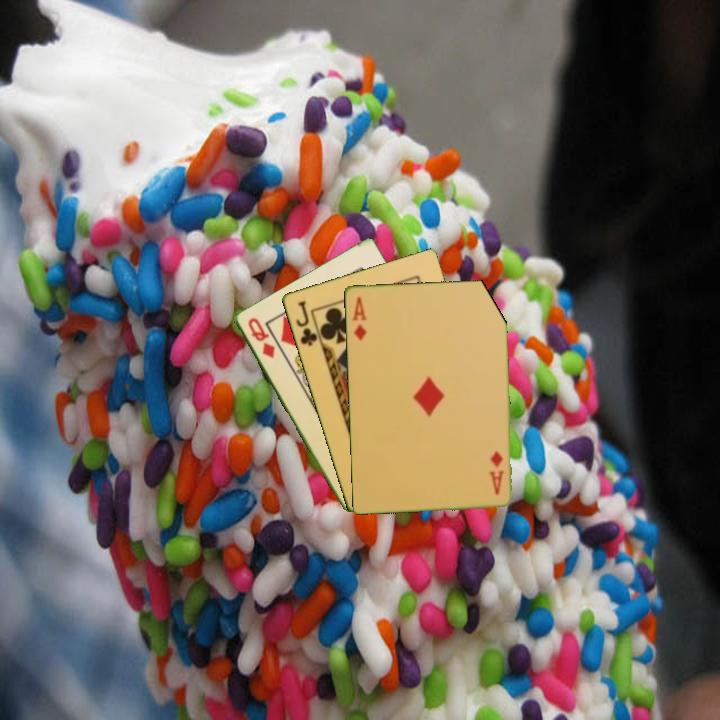Ad: (349, 293, 369, 343), (486, 447, 506, 497)
Jc: (292, 297, 320, 349)
Qd: (244, 314, 278, 361)
